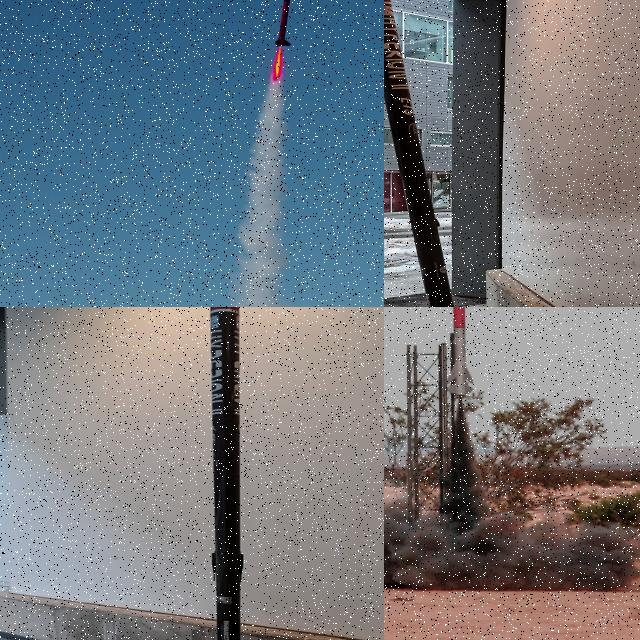Rocket: (384, 0, 455, 307), (210, 307, 244, 640), (445, 307, 475, 397), (273, 0, 292, 48)
